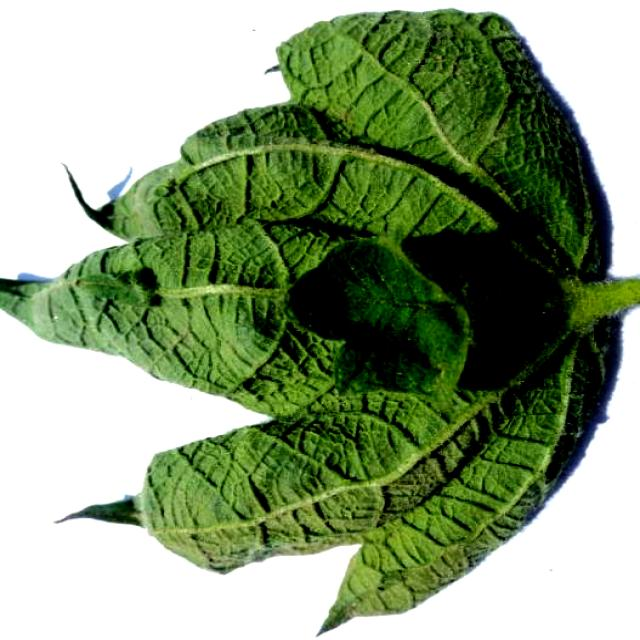Leaf Curl Virus: (164, 63, 546, 511)
